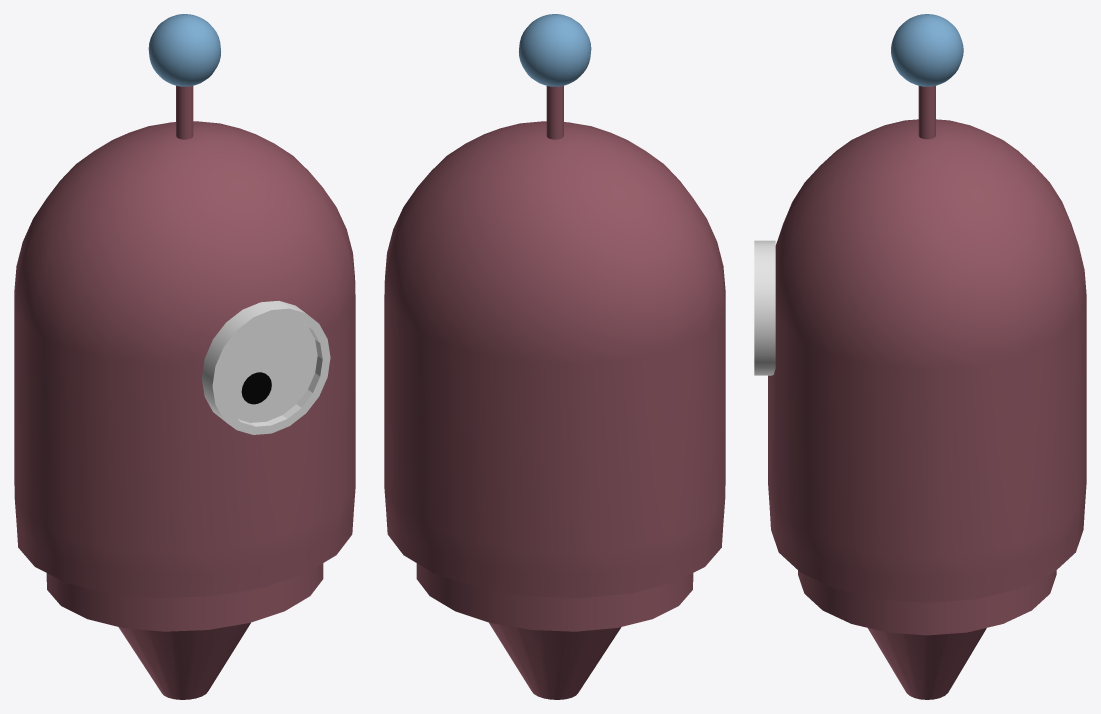
File: Robot2.fbx
3 views of the same model, side by side, from view 1: azimuth 30°, elevation 25°; view 2: azimuth 150°, elevation 25°; view 3: azimuth 270°, elevation 25° (orthographic).
Visible parts, largest first — view 1: Head, Eye, Midbody, Bottom, Light, Antenna, Pupil; view 2: Head, Midbody, Bottom, Light, Antenna; view 3: Head, Midbody, Bottom, Light, Eye, Antenna.
Part boxes in pixels (x1=…): Head: x1=14, y1=121, x2=355, y2=598; Eye: x1=201, y1=300, x2=330, y2=434; Midbody: x1=46, y1=563, x2=323, y2=631; Bottom: x1=118, y1=622, x2=250, y2=699; Light: x1=148, y1=14, x2=220, y2=86; Antenna: x1=176, y1=85, x2=193, y2=139; Pupil: x1=241, y1=372, x2=271, y2=404; Head: x1=384, y1=121, x2=725, y2=598; Midbody: x1=416, y1=563, x2=693, y2=631; Bottom: x1=489, y1=622, x2=621, y2=699; Light: x1=519, y1=14, x2=591, y2=86; Antenna: x1=546, y1=85, x2=563, y2=139; Head: x1=768, y1=119, x2=1086, y2=602; Midbody: x1=798, y1=570, x2=1056, y2=635; Bottom: x1=868, y1=628, x2=986, y2=699; Light: x1=891, y1=14, x2=963, y2=86; Eye: x1=754, y1=240, x2=775, y2=375; Antenna: x1=918, y1=85, x2=935, y2=139.
Bounding box in the file's own units: 116 × 245 × 110.
